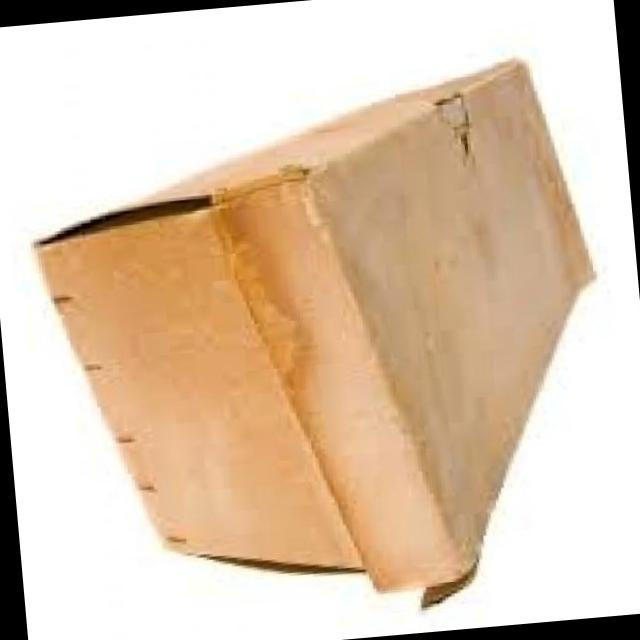cardboard paper: (41, 60, 593, 603)
